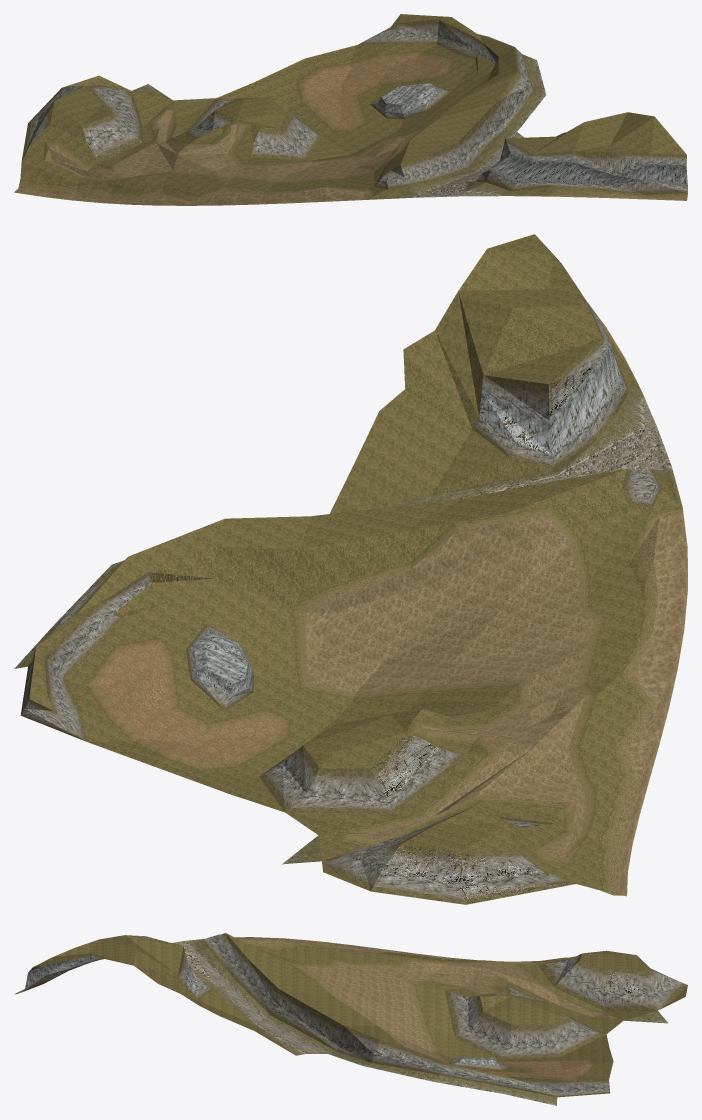
File: lodcuntw44.obj
The picture shows the model from 3 angles, top to bottom: view 1: azimuth 30°, elevation 25°; view 2: azimuth 150°, elevation 25°; view 3: azimuth 270°, elevation 25°; orthographic projection. The views are drawn at different scales.
Parts seen in each view (by area): view 1: lodcuntw44; view 2: lodcuntw44; view 3: lodcuntw44.
Part boxes in pixels (box(x1,y1,x2,y2)): lodcuntw44: box(14, 14, 687, 205); lodcuntw44: box(14, 234, 687, 904); lodcuntw44: box(14, 933, 687, 1105).
Size of the model in its own units: 283 by 110 by 417.
Materials: 10 (10 with a texture image).
